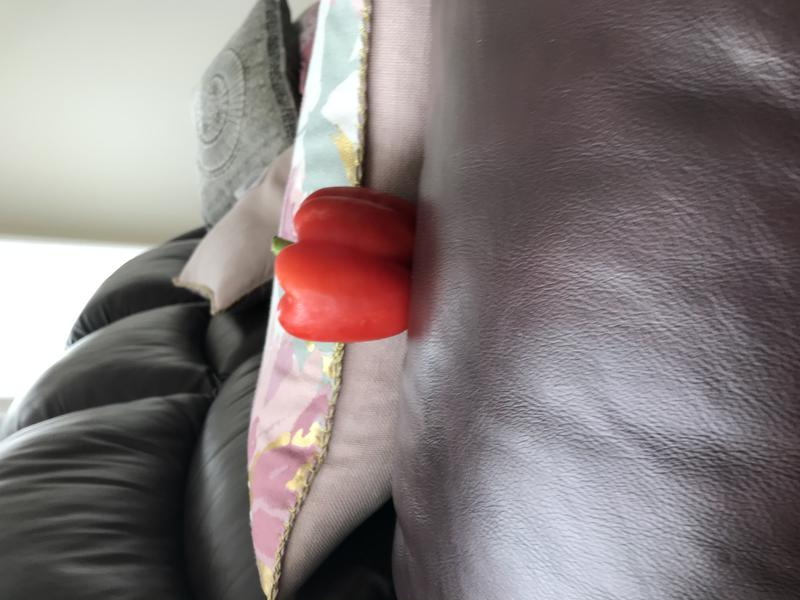red_pepper: (257, 184, 420, 358)
